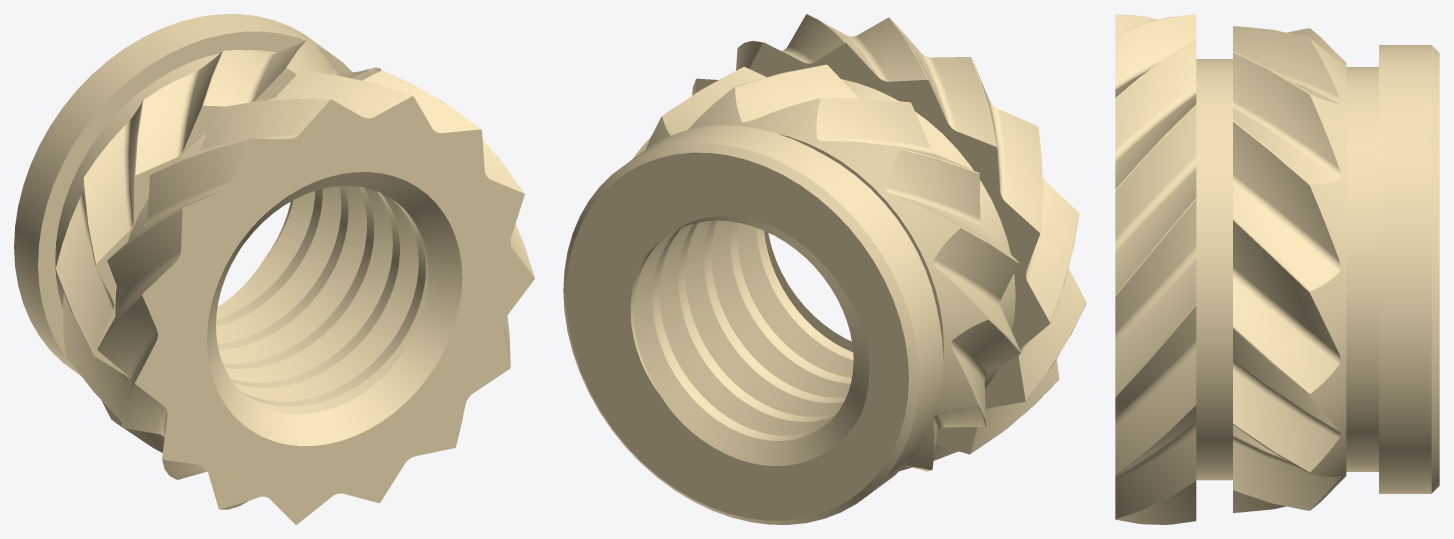
Rendered from RX_M4x8_1_1__K_rper1.gltf.
3 views of the same model, side by side, from view 1: azimuth 30°, elevation 25°; view 2: azimuth 150°, elevation 25°; view 3: azimuth 270°, elevation 25° (orthographic). The views are drawn at different scales.
Parts seen in each view (by area): view 1: mesh2267, mesh2204, mesh2207, mesh2197, mesh2202, mesh2198, mesh2257, mesh2260, mesh2275, mesh2271, mesh2264, mesh2281 (+18 smaller); view 2: mesh2201, mesh2206, mesh2197, mesh2208, mesh2268, mesh2202, mesh2196, mesh2236, mesh2322, mesh2259, mesh2232, mesh2269 (+20 smaller); view 3: mesh2197, mesh2266, mesh2199, mesh2208, mesh2216, mesh2226, mesh2230, mesh2220, mesh2296, mesh2285, mesh2279, mesh2196 (+29 smaller).
Part boxes in pixels (bbox=[...]): mesh2267: bbox=[135, 96, 534, 524]; mesh2204: bbox=[216, 186, 428, 414]; mesh2207: bbox=[207, 172, 462, 446]; mesh2197: bbox=[14, 14, 327, 376]; mesh2202: bbox=[216, 186, 425, 406]; mesh2198: bbox=[38, 31, 352, 368]; mesh2257: bbox=[56, 201, 112, 353]; mesh2260: bbox=[83, 127, 129, 263]; mesh2275: bbox=[200, 99, 329, 149]; mesh2271: bbox=[147, 139, 248, 217]; mesh2264: bbox=[135, 74, 189, 175]; mesh2281: bbox=[273, 71, 412, 116]; mesh2201: bbox=[566, 152, 908, 520]; mesh2206: bbox=[633, 216, 869, 465]; mesh2197: bbox=[628, 125, 943, 496]; mesh2208: bbox=[646, 87, 988, 469]; mesh2268: bbox=[695, 42, 1050, 454]; mesh2202: bbox=[630, 220, 853, 440]; mesh2196: bbox=[563, 143, 918, 524]; mesh2236: bbox=[816, 99, 929, 146]; mesh2322: bbox=[1028, 182, 1078, 322]; mesh2259: bbox=[886, 149, 980, 217]; mesh2232: bbox=[735, 65, 858, 120]; mesh2269: bbox=[998, 109, 1042, 232]; mesh2197: bbox=[1379, 45, 1431, 493]; mesh2266: bbox=[1196, 59, 1232, 480]; mesh2199: bbox=[1346, 67, 1378, 471]; mesh2208: bbox=[1310, 37, 1346, 510]; mesh2216: bbox=[1233, 371, 1338, 472]; mesh2226: bbox=[1233, 122, 1338, 259]; mesh2230: bbox=[1233, 52, 1338, 167]; mesh2220: bbox=[1233, 279, 1338, 393]; mesh2296: bbox=[1115, 354, 1196, 475]; mesh2285: bbox=[1115, 106, 1196, 237]; mesh2279: bbox=[1115, 40, 1196, 148]; mesh2196: bbox=[1431, 45, 1439, 493].
Size of the model in its own units: 0.0063 by 0.0063 by 0.004.
